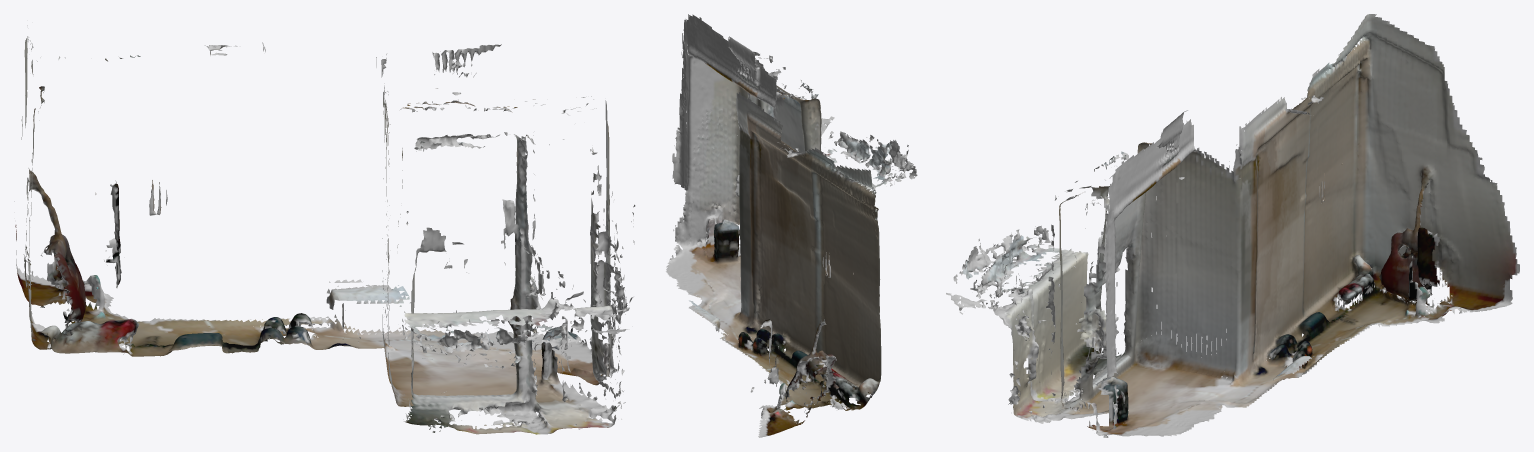
The picture shows the model from 3 angles, left to right: view 1: azimuth 30°, elevation 25°; view 2: azimuth 150°, elevation 25°; view 3: azimuth 270°, elevation 25°; orthographic projection. The views are drawn at different scales.
Bounding box in the file's own units: 3.31 × 2.54 × 4.58.
